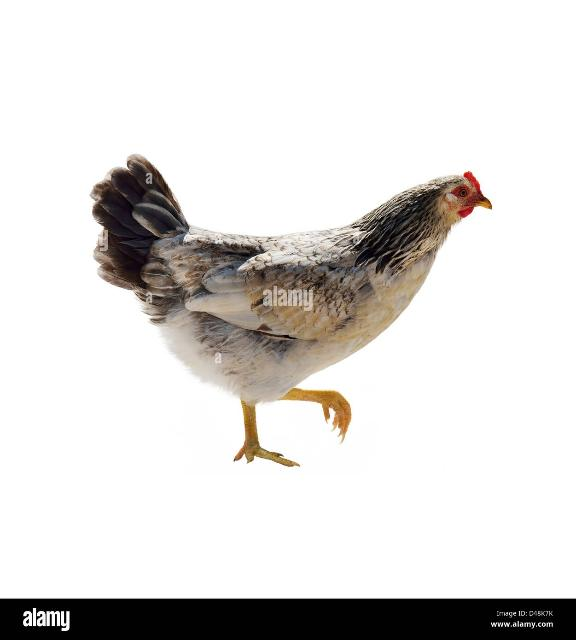Chicken: (94, 152, 492, 466)
